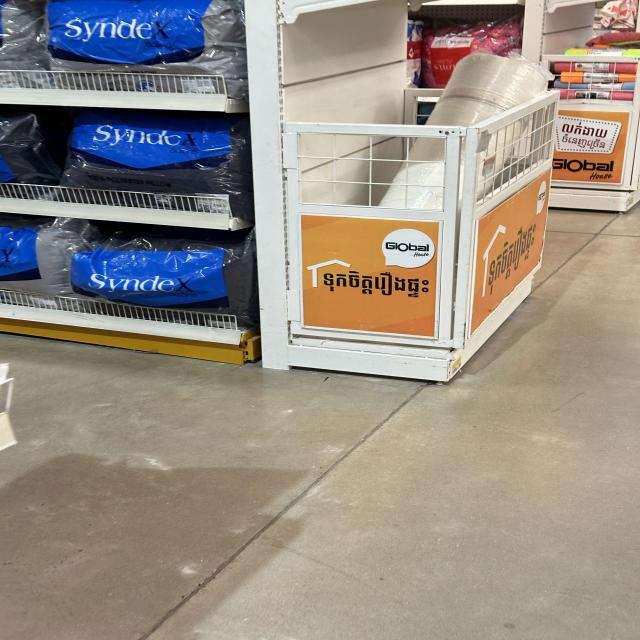Yolov11kh: (317, 264, 432, 300)
